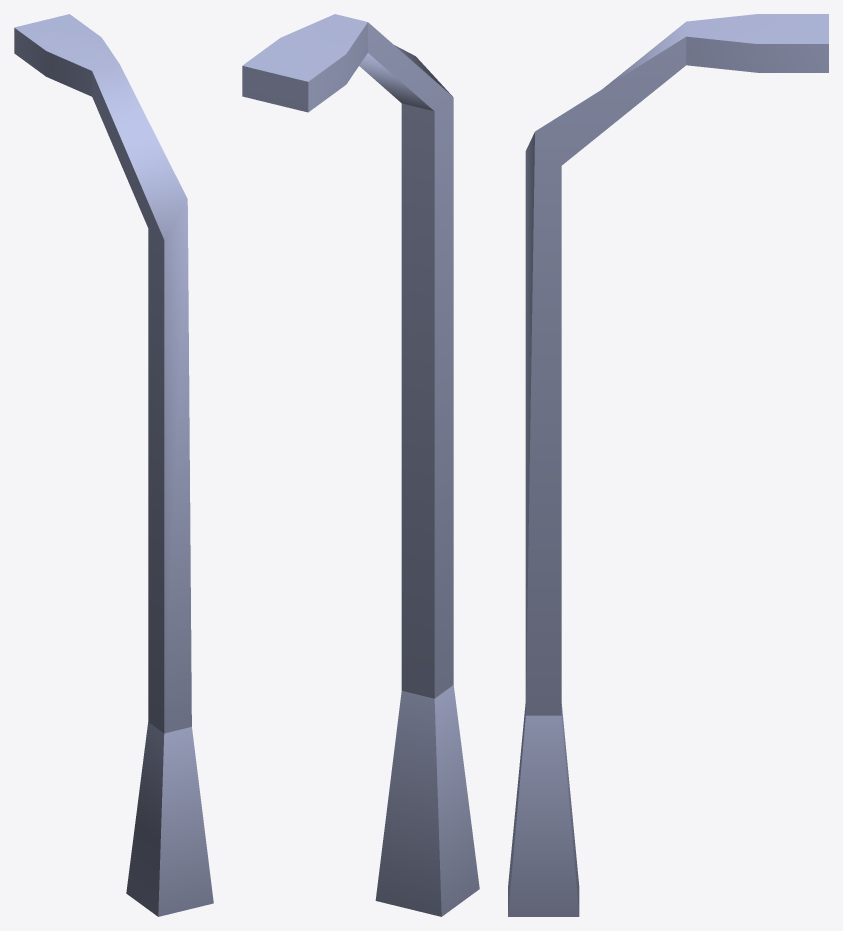
File: lamp.glb
The picture shows the model from 3 angles, left to right: view 1: azimuth 30°, elevation 25°; view 2: azimuth 150°, elevation 25°; view 3: azimuth 270°, elevation 25°; orthographic projection. The views are drawn at different scales.
Parts seen in each view (by area): view 1: light-curved; view 2: light-curved; view 3: light-curved.
Part boxes in pixels (x1,y1,x2,y2): light-curved: (14,14,213,916); light-curved: (242,14,479,916); light-curved: (508,14,828,916).
Bounding box in the file's own units: 0.05 × 0.675 × 0.225.
1 material, 1 textured.
